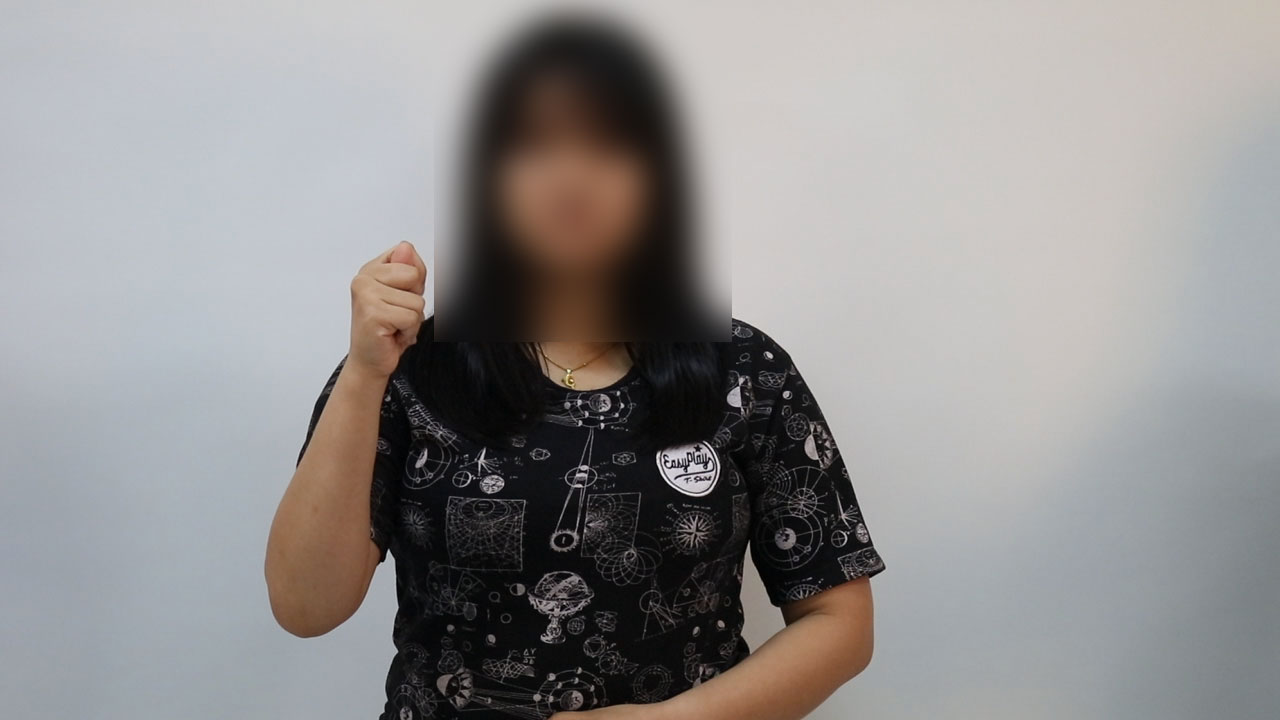tor: (338, 232, 439, 395)
